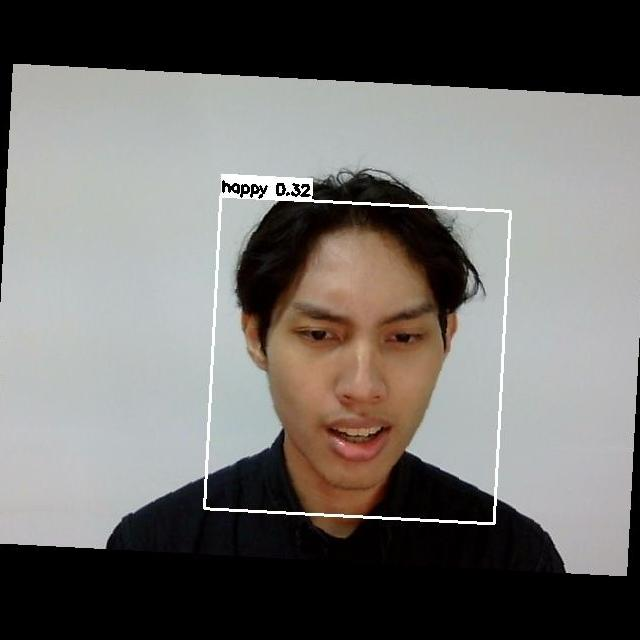Angry: (270, 276, 451, 470)
